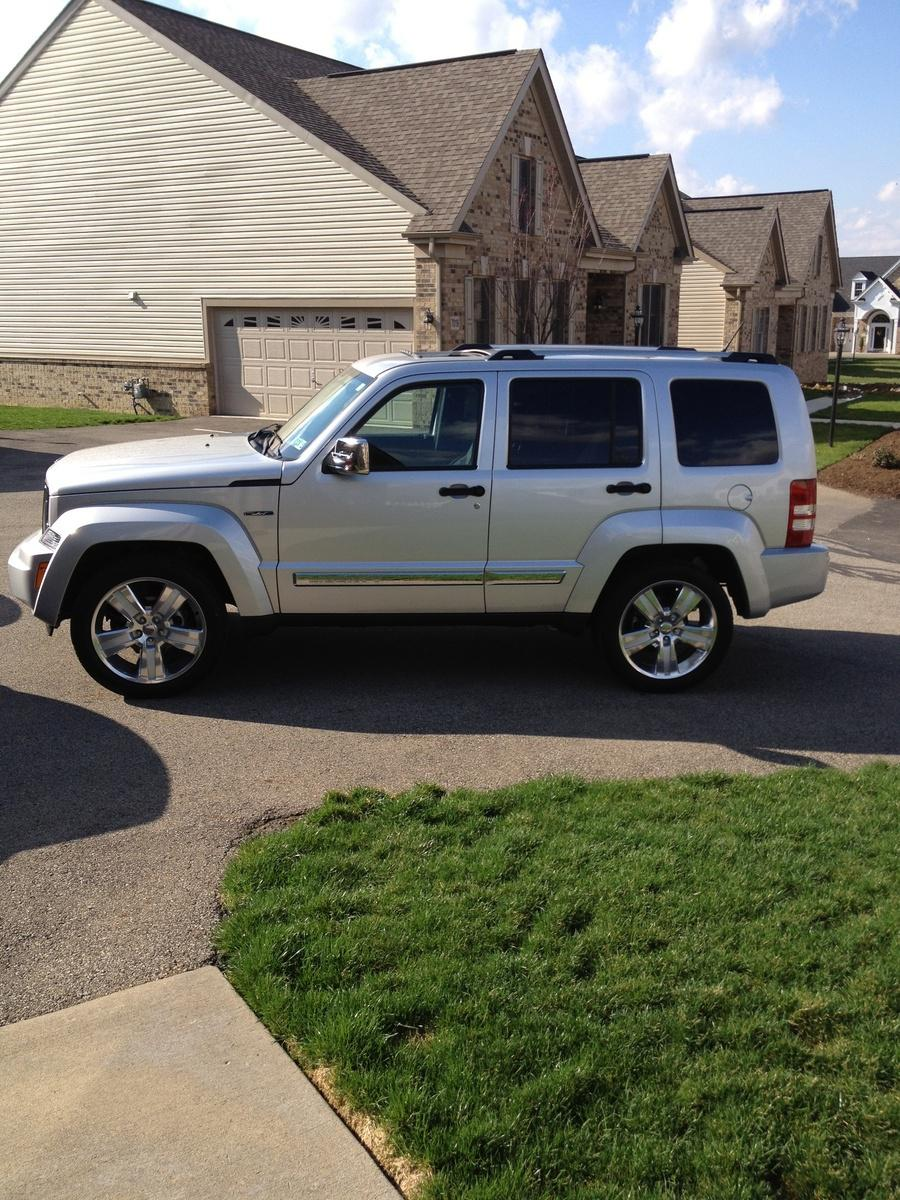Car: (0, 336, 899, 740)
